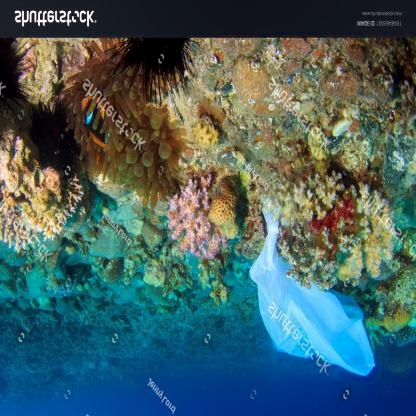pbag: (246, 206, 379, 380)
